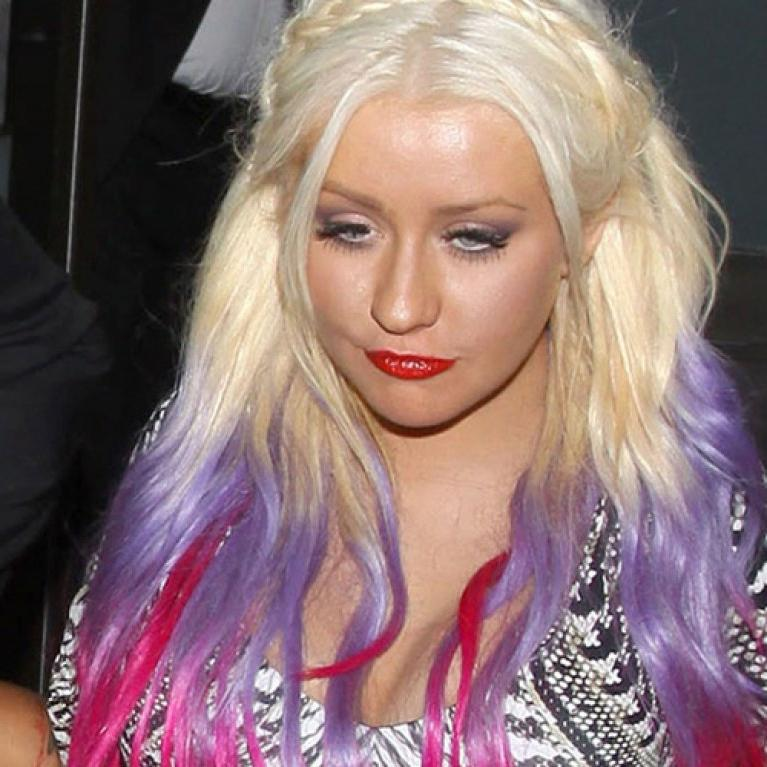Drunk: (297, 122, 551, 414)
